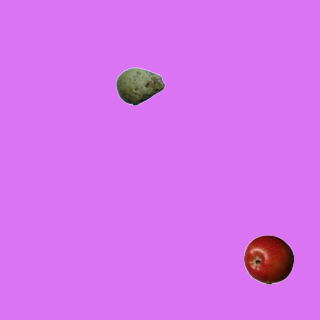Apple Braeburn: (243, 234, 293, 284)
Pear Stone: (115, 61, 165, 111)
